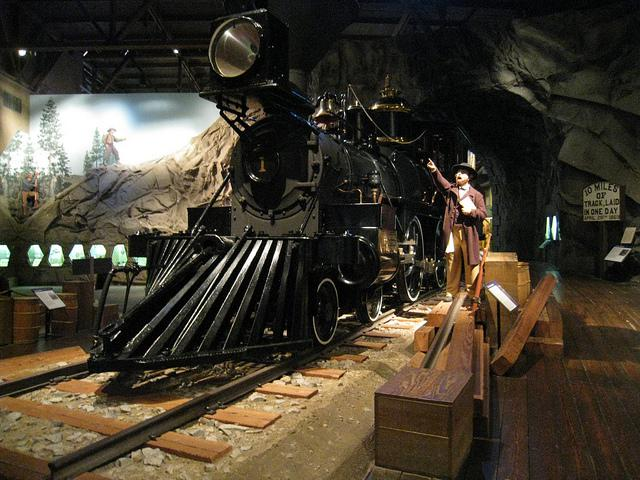Train: (86, 9, 483, 373)
